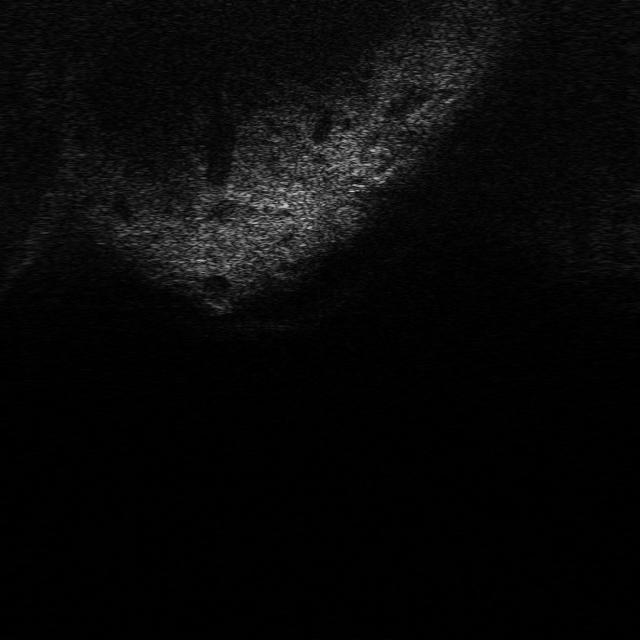cube: (193, 291, 239, 321)
